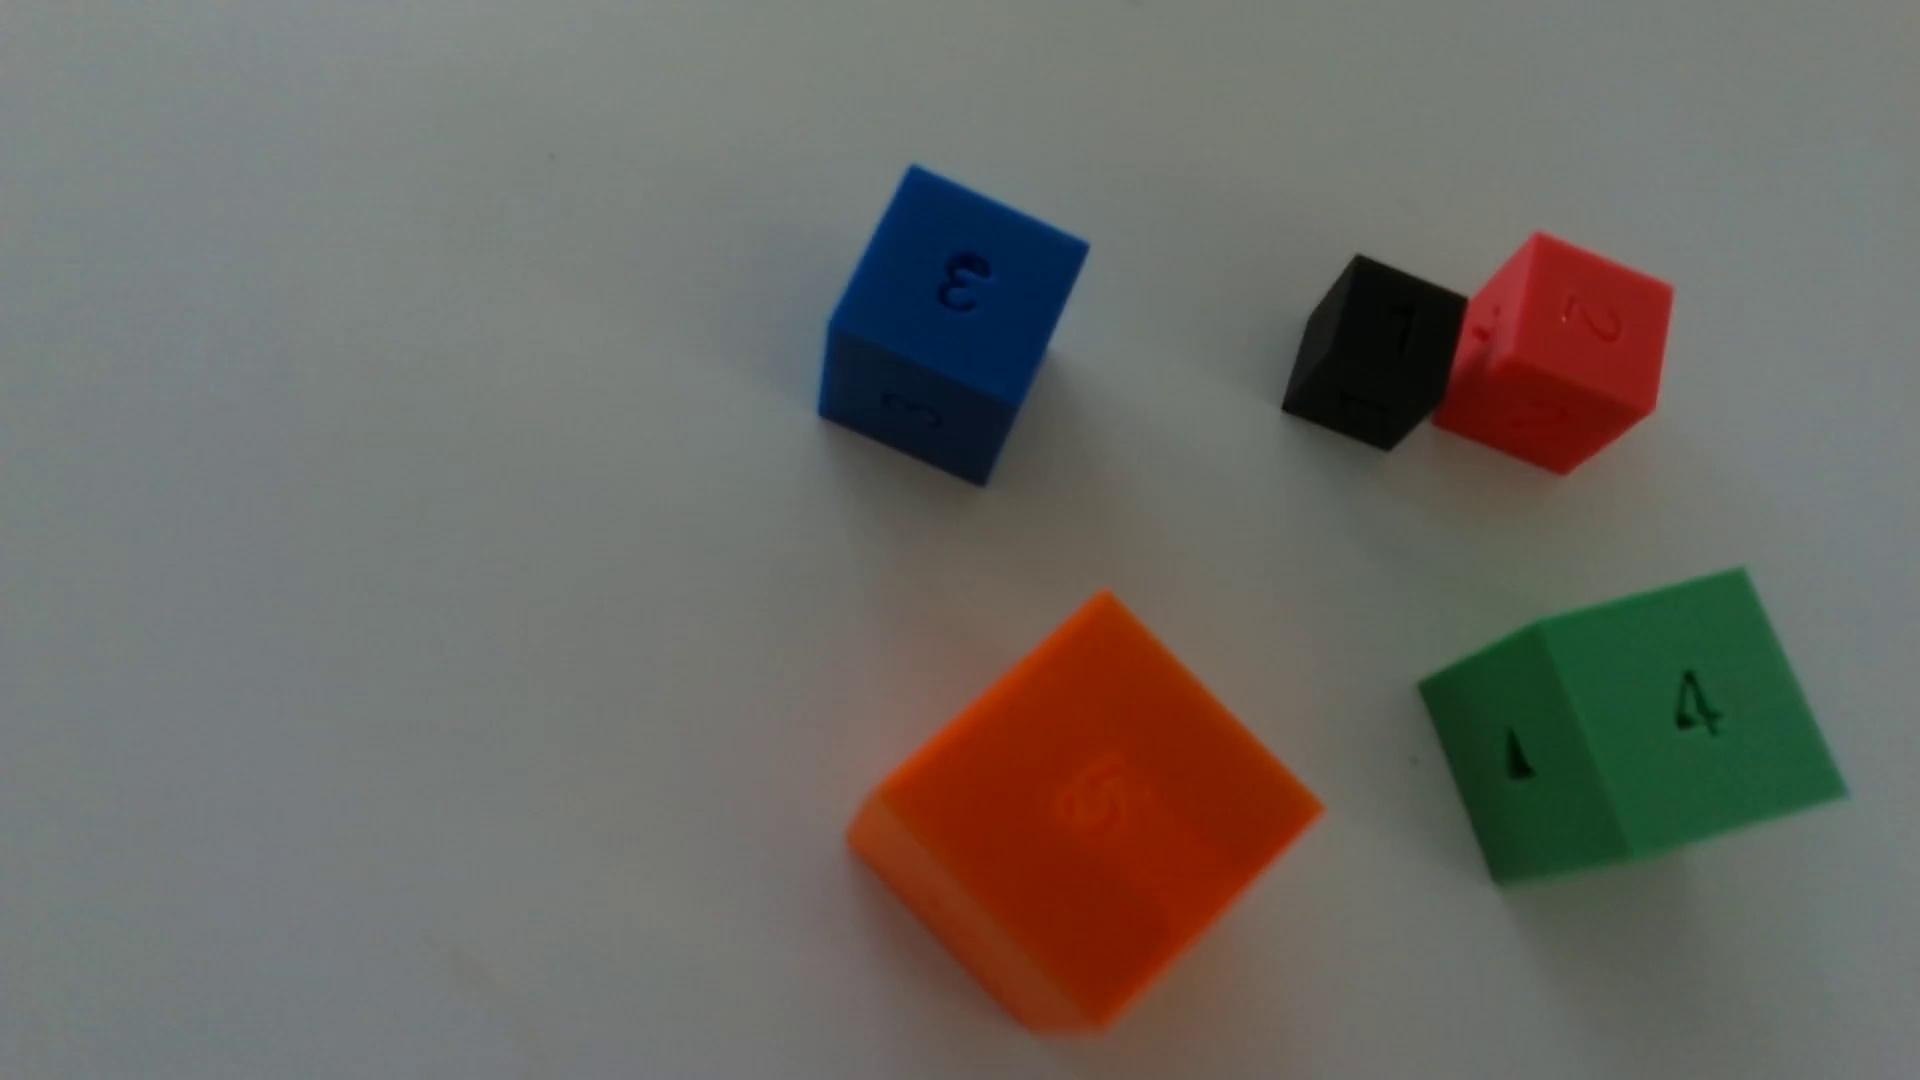black: (1280, 256, 1466, 452)
blue: (818, 167, 1088, 487)
green: (1419, 570, 1845, 886)
orange: (847, 595, 1320, 1033)
red: (1433, 233, 1673, 476)
